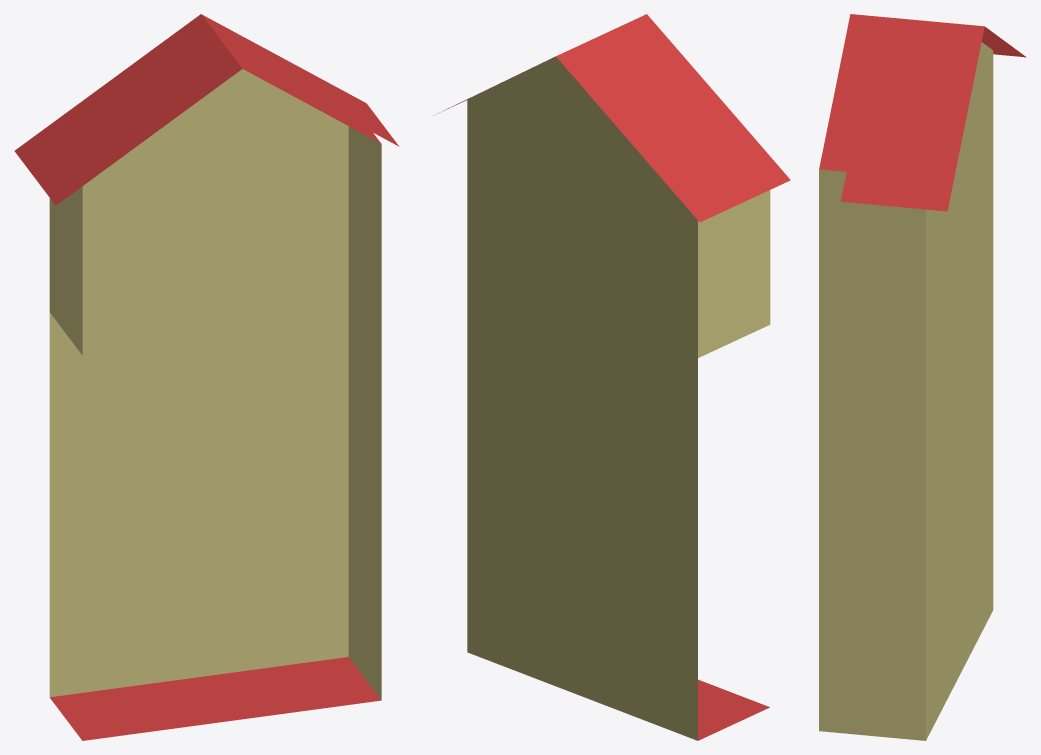
3 renders of one model, left to right at view 1: azimuth 30°, elevation 25°; view 2: azimuth 150°, elevation 25°; view 3: azimuth 270°, elevation 25°, orthographic.
Bounding box in the file's own units: 6.97 × 3.68 × 12.82.
